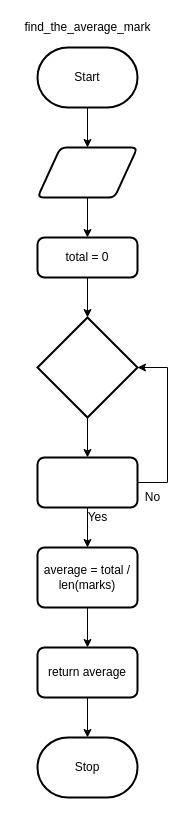
Some shapes in this 193 by 815 pixel diagram are drawn without their labels. Each missing label, with the centre of its shape:
for element in marks:: (87,367)
get marks: (87,172)
total += element: (87,482)
